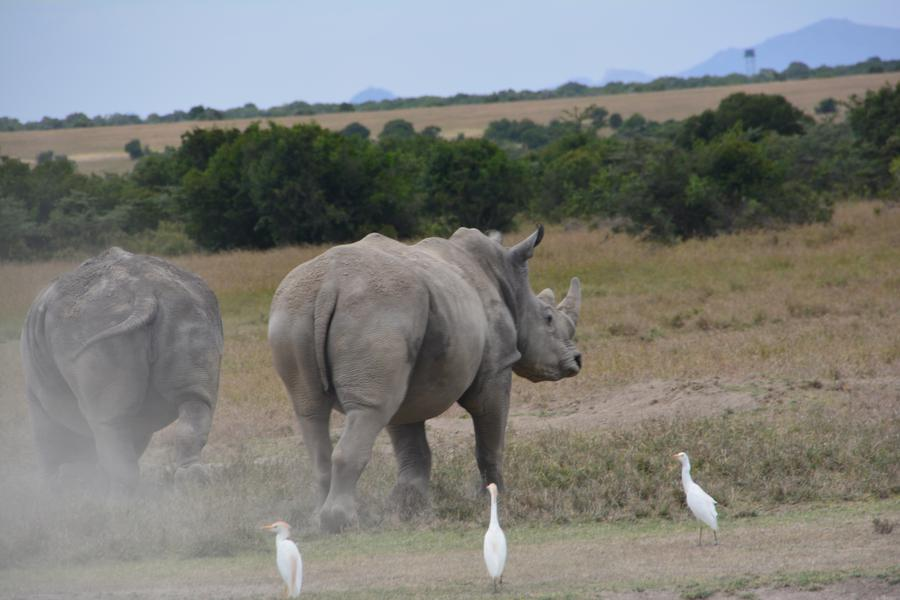rhino: (292, 214, 579, 506), (42, 237, 224, 456)
